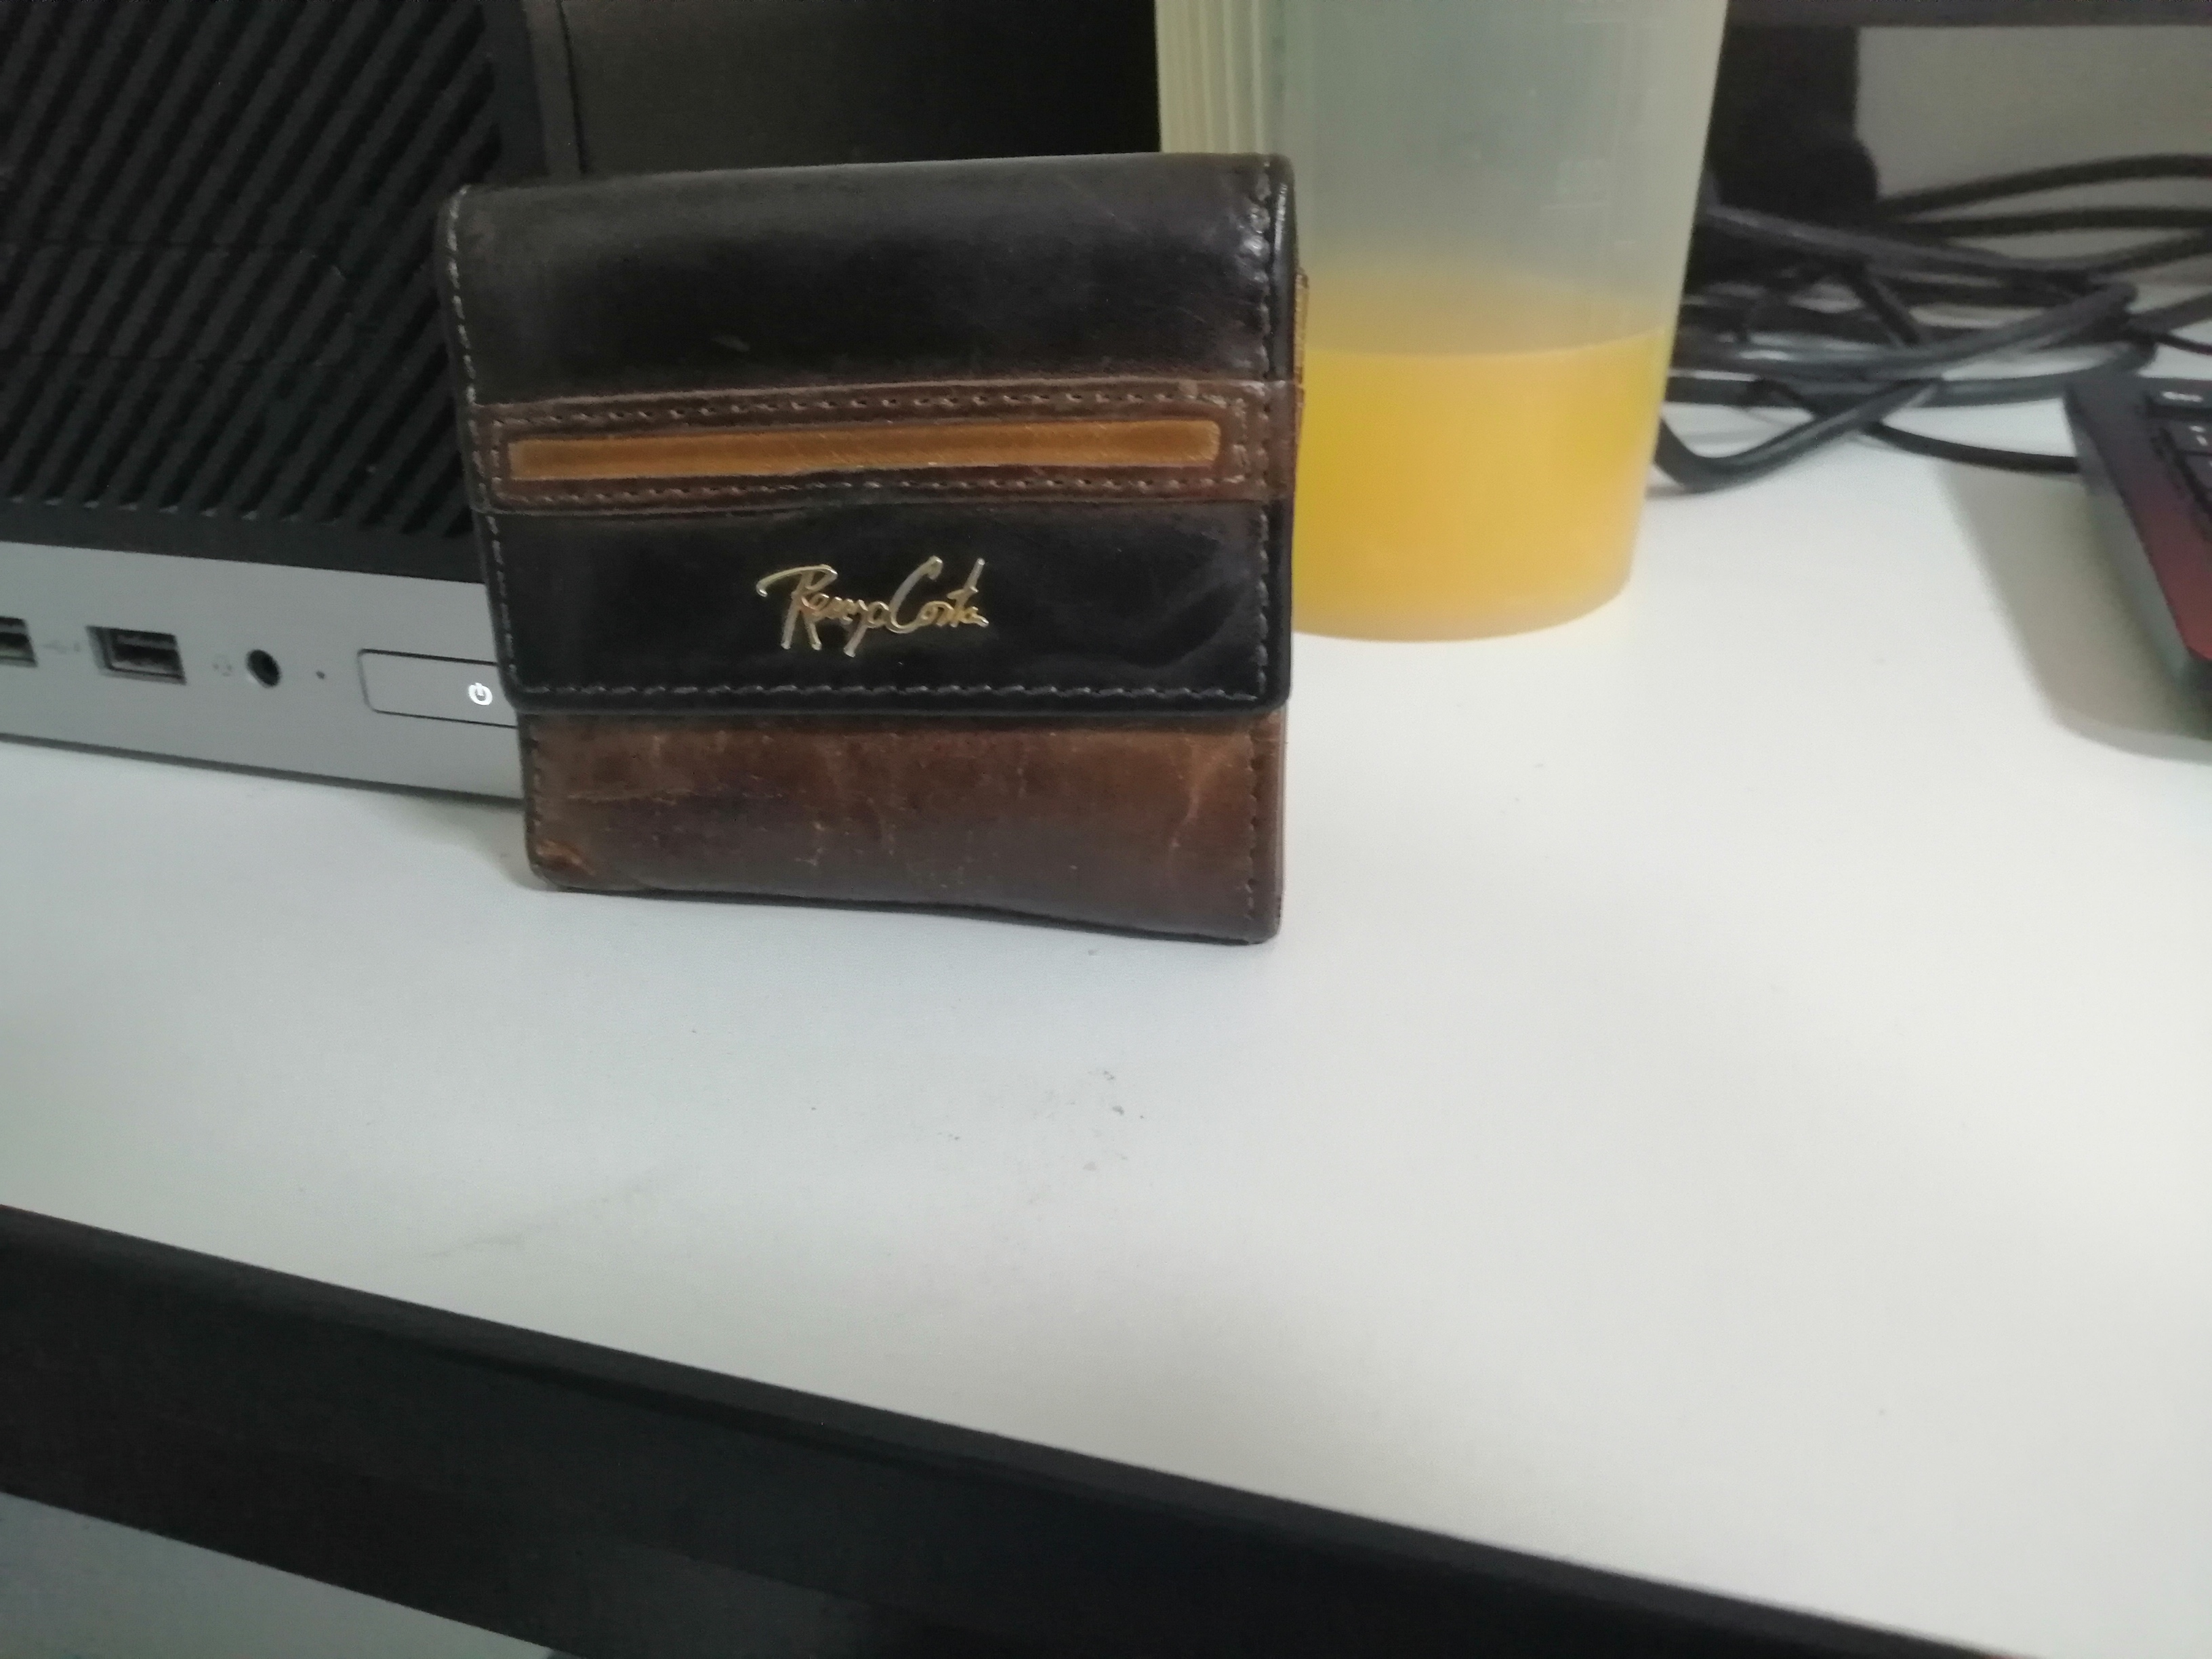monedero: (430, 136, 1332, 992)
